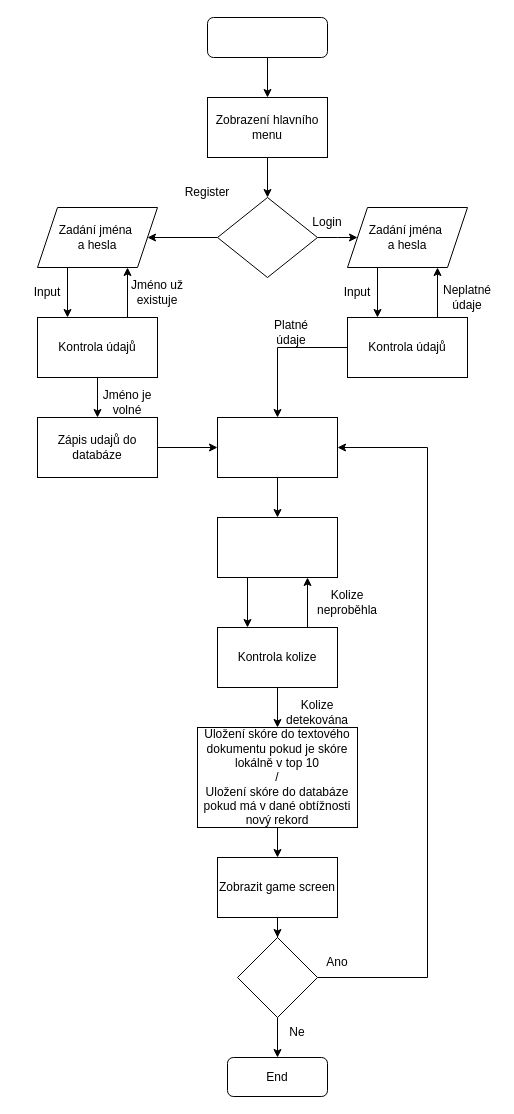
Some shapes in this 514 by 1114 pixel diagram are drawn without their labels. The shapes that lost their labels are listed below. From the top down, each one's box as (x1, y1, x2, y2) in pixels, then its label:
(206, 16, 328, 58): Start
(216, 196, 318, 278): Register/Login
(216, 416, 338, 478): Výběr obtížnosti
(216, 516, 338, 578): Hra příslušné obtížnosti
(236, 936, 318, 1018): Hrát znovu?
